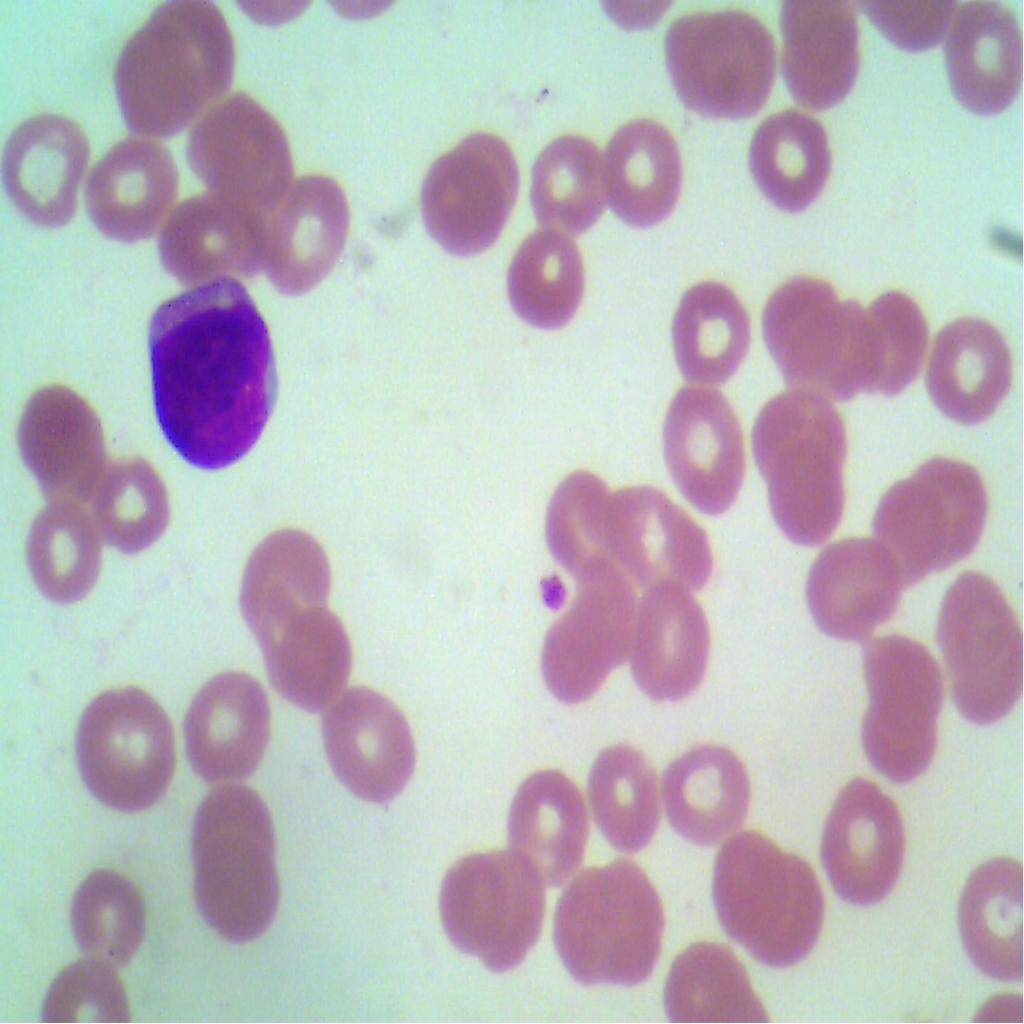Eritrosit: (435, 837, 550, 988), (650, 0, 782, 127), (66, 668, 174, 823), (555, 844, 660, 992), (933, 566, 1023, 728), (497, 760, 600, 894), (417, 130, 520, 260), (259, 174, 359, 301), (490, 217, 598, 334), (657, 249, 748, 387), (195, 91, 297, 214), (322, 682, 420, 808), (234, 524, 328, 652), (80, 124, 175, 250), (819, 782, 906, 918), (667, 374, 748, 520), (925, 315, 1023, 432), (180, 661, 273, 784), (0, 103, 90, 230), (140, 0, 248, 103), (599, 98, 688, 222), (630, 580, 718, 705), (803, 527, 902, 637), (22, 374, 104, 500), (775, 0, 863, 117), (945, 858, 1023, 988), (542, 458, 624, 581), (155, 188, 262, 282), (942, 1, 1023, 125), (610, 488, 713, 584), (86, 450, 174, 562), (740, 850, 827, 962), (110, 29, 202, 134), (196, 835, 282, 947), (863, 271, 938, 399), (662, 745, 755, 848), (752, 385, 850, 482), (542, 586, 630, 692), (764, 271, 842, 390), (272, 595, 348, 717), (752, 104, 839, 210), (588, 744, 670, 854), (912, 451, 992, 562), (526, 127, 610, 231), (772, 438, 850, 550), (66, 856, 144, 966), (870, 478, 943, 592), (25, 500, 102, 607), (850, 635, 942, 724), (185, 778, 272, 870), (707, 823, 785, 925), (815, 292, 882, 406), (666, 934, 747, 1023), (42, 955, 135, 1023), (868, 696, 940, 778)
Limfoblast: (135, 255, 290, 492)
Platelet: (525, 559, 574, 614)
